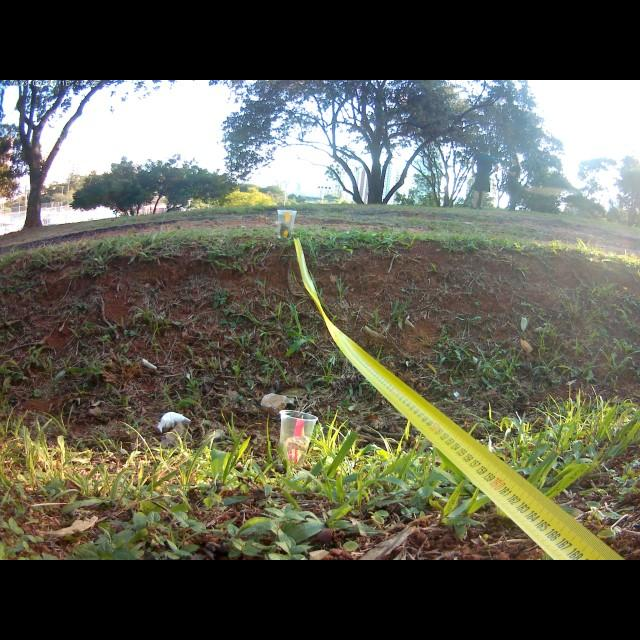ravina: (4, 249, 631, 420)
